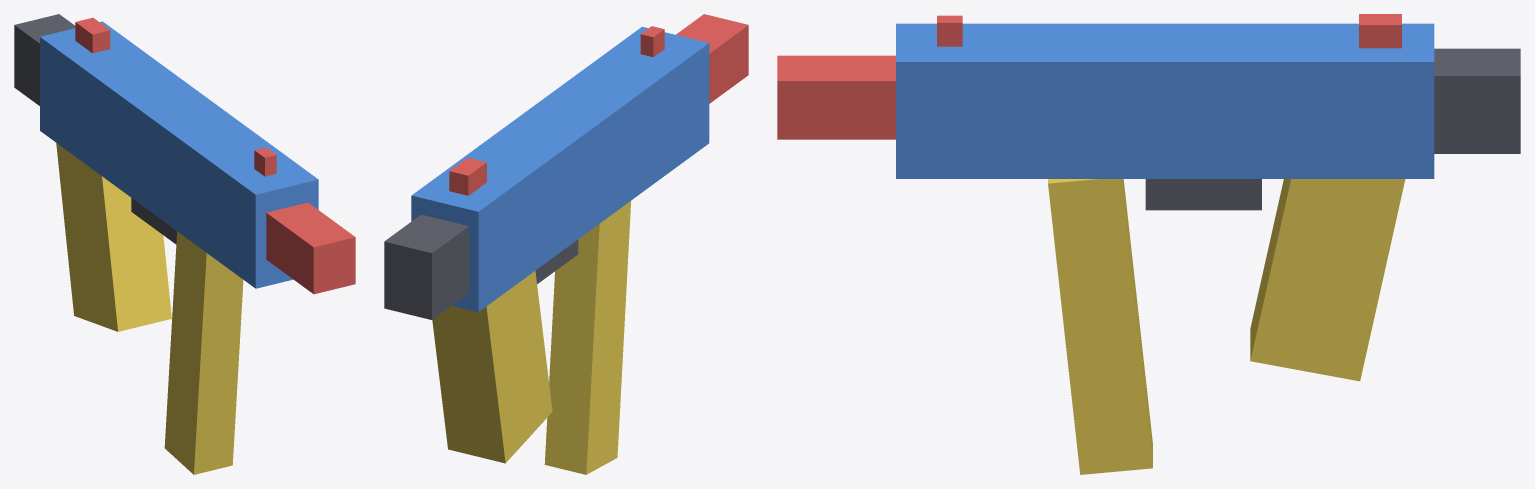
File: gun_machinepistol.glb
The picture shows the model from 3 angles, left to right: view 1: azimuth 30°, elevation 25°; view 2: azimuth 150°, elevation 25°; view 3: azimuth 270°, elevation 25°; orthographic projection. The views are drawn at different scales.
Visible parts, largest first — view 1: gun_machinepistol; view 2: gun_machinepistol; view 3: gun_machinepistol.
Part boxes in pixels (x1,y1,x2,y2): gun_machinepistol: (14,14,355,474); gun_machinepistol: (384,14,748,474); gun_machinepistol: (777,14,1520,474).
Bounding box in the file's own units: 0.042 × 0.2273 × 0.345.
